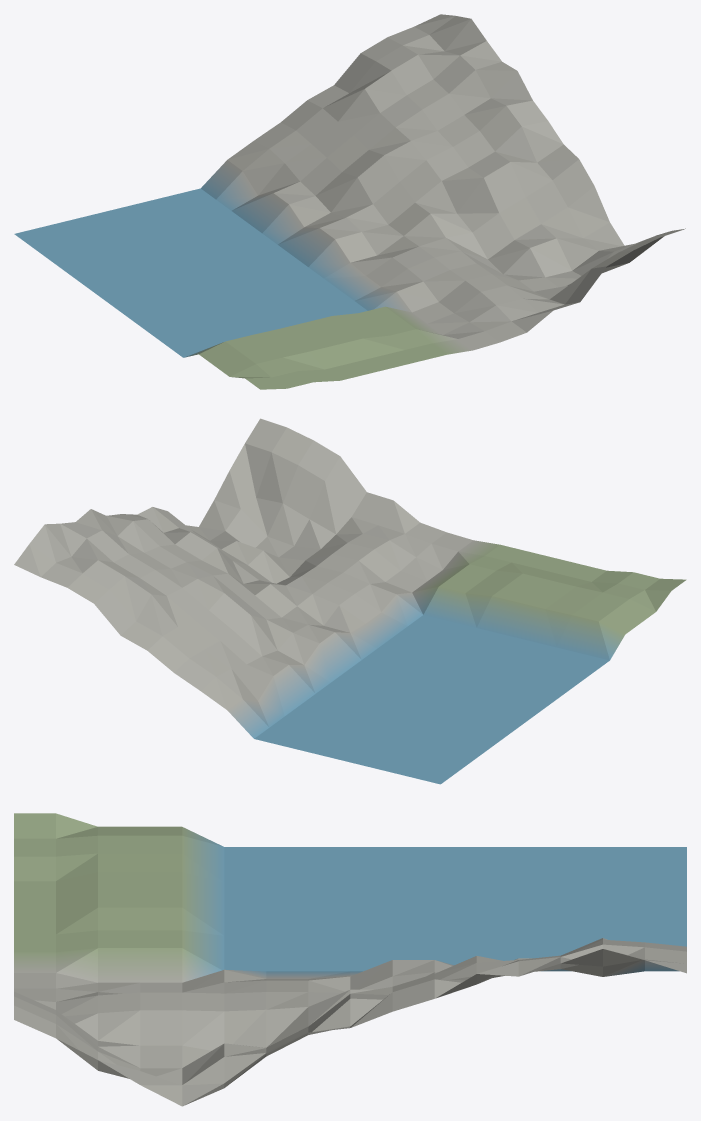
3 renders of one model, top to bottom at view 1: azimuth 30°, elevation 25°; view 2: azimuth 150°, elevation 25°; view 3: azimuth 270°, elevation 25°, orthographic. The views are drawn at different scales.
Bounding box in the file's own units: 32 × 9.58 × 32.
